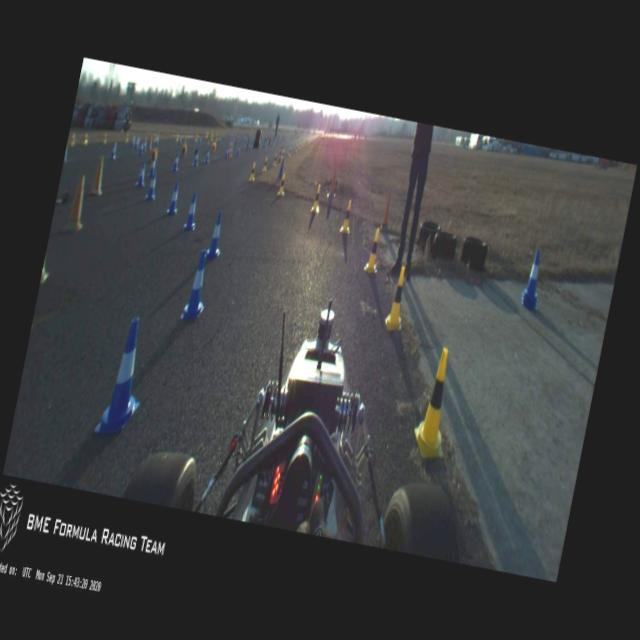blue_cone: (94, 313, 156, 442), (180, 247, 215, 323), (520, 248, 548, 301), (204, 210, 228, 261), (183, 191, 202, 231), (166, 181, 183, 215), (144, 170, 160, 200), (134, 160, 150, 188), (148, 157, 158, 179), (171, 152, 182, 172), (192, 147, 201, 168), (109, 142, 118, 161), (204, 148, 211, 164), (138, 141, 145, 157), (224, 146, 230, 160), (134, 137, 140, 150), (142, 138, 148, 151), (236, 144, 242, 156), (130, 136, 136, 148), (248, 141, 253, 153), (262, 138, 267, 149), (268, 136, 272, 146), (178, 134, 182, 144), (156, 134, 160, 144), (198, 136, 202, 144)
large_orange_cone: (226, 136, 235, 158), (228, 136, 236, 158), (277, 144, 284, 164)
unknown_cone: (64, 174, 92, 231), (89, 156, 109, 196), (379, 192, 396, 233), (326, 165, 341, 200), (278, 157, 286, 180), (150, 148, 159, 164), (146, 135, 154, 152), (180, 144, 188, 158), (210, 142, 217, 154), (182, 134, 188, 146), (246, 138, 250, 152)
yellow_cone: (410, 344, 462, 458), (382, 264, 412, 334), (363, 227, 385, 274), (339, 200, 355, 235), (310, 184, 324, 213), (276, 172, 288, 197), (248, 162, 258, 182), (82, 132, 90, 146), (70, 132, 77, 148), (262, 156, 268, 172), (272, 152, 278, 168), (102, 132, 108, 145), (287, 146, 293, 158), (280, 148, 285, 162), (125, 132, 130, 143), (194, 132, 199, 142), (176, 132, 180, 142), (295, 144, 299, 153), (153, 133, 157, 142), (298, 143, 302, 151)
